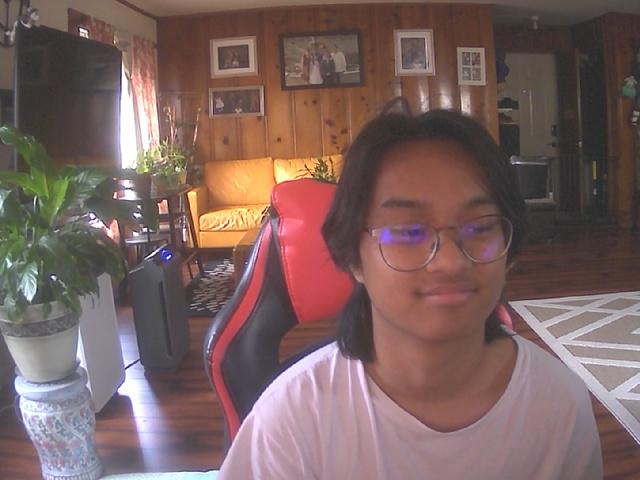happy: (349, 112, 520, 342)
